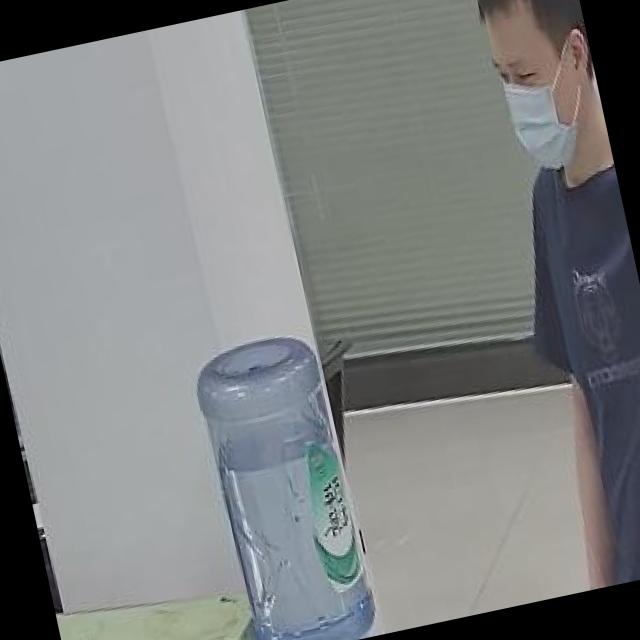Guns: (574, 0, 627, 227)
